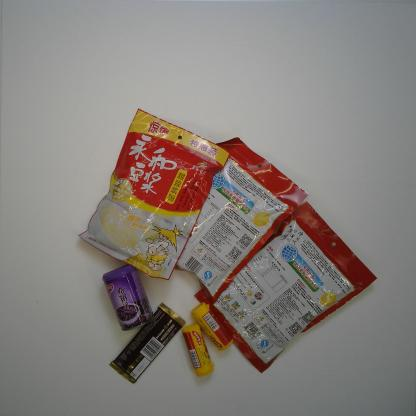Candy: (191, 302, 235, 352), (180, 322, 216, 378)
Canned Food: (101, 264, 154, 332)
Chocolate: (109, 302, 187, 385)
Instant Drink: (192, 200, 379, 375), (76, 108, 231, 282), (175, 136, 310, 304)
